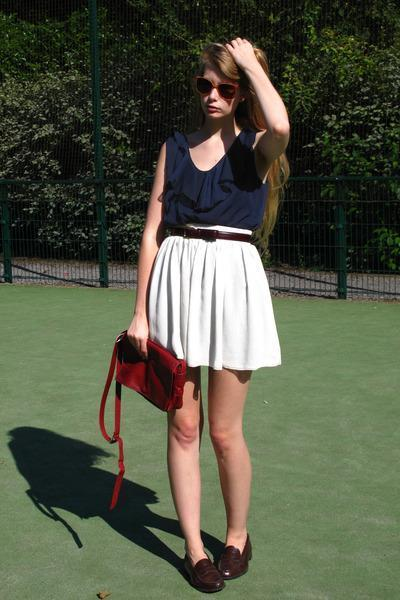bag: (92, 330, 200, 474)
shirt: (156, 109, 275, 247)
shoe: (171, 540, 251, 593)
skirt: (150, 236, 280, 369)
sunglass: (195, 78, 227, 98)
